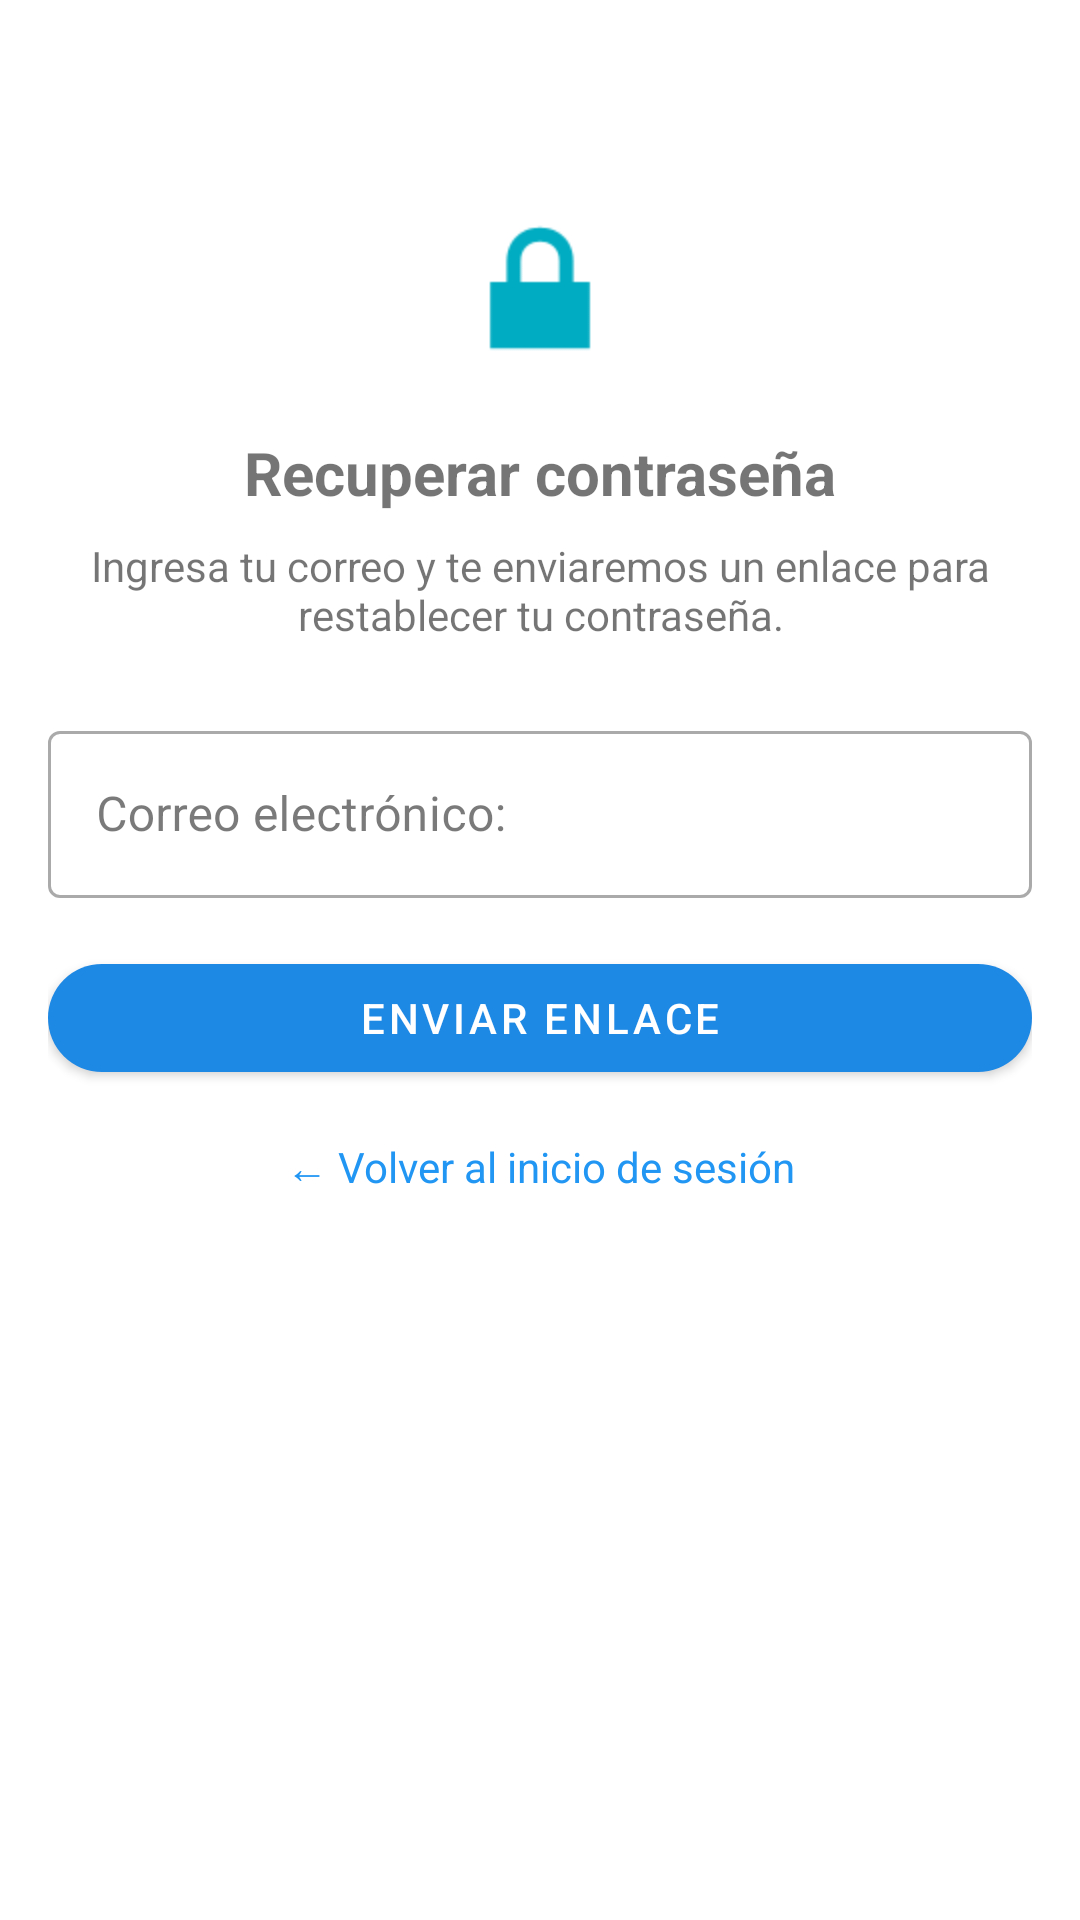

Icons on this 1080px x 1920px Android screen, each with its box as bbox=(x1, y1, x2, y2):
lock: bbox=(489, 226, 591, 350)
